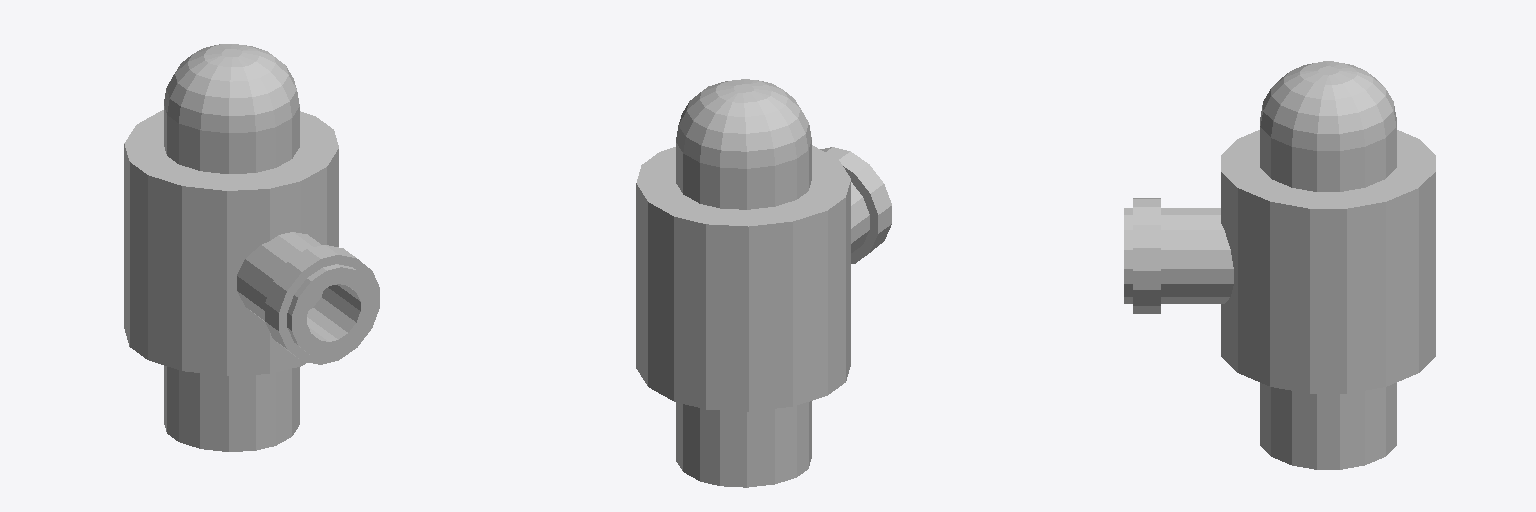
The model's file is BulletDeploy01.obj.
3 renders of one model, left to right at view 1: azimuth 30°, elevation 25°; view 2: azimuth 150°, elevation 25°; view 3: azimuth 270°, elevation 25°, orthographic.
Visible parts, largest first — view 1: BulletDeploy01; view 2: BulletDeploy01; view 3: BulletDeploy01.
Boxes of the visible parts, x1,y1,x2,y2 form: BulletDeploy01: [124, 44, 379, 451]; BulletDeploy01: [636, 79, 891, 487]; BulletDeploy01: [1124, 61, 1435, 469].
Size of the model in its own units: 1.05 by 2 by 1.53.